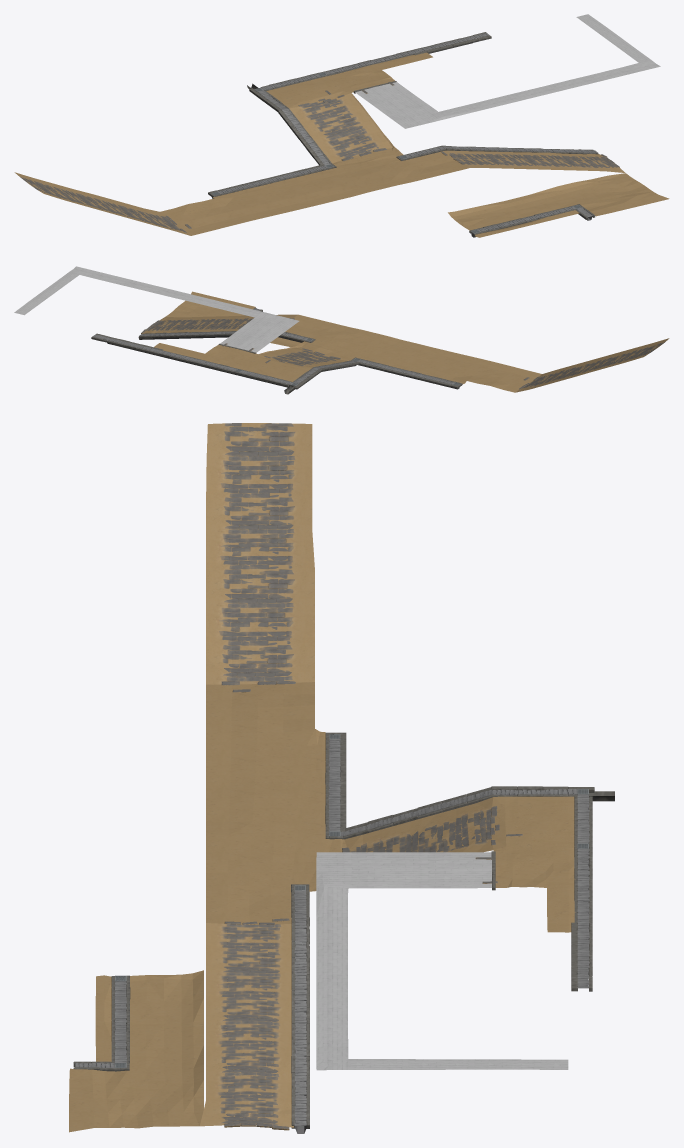
The model's file is konohavill_ground_03.fbx.
3 renders of one model, top to bottom at view 1: azimuth 30°, elevation 25°; view 2: azimuth 150°, elevation 25°; view 3: azimuth 270°, elevation 25°, orthographic. The views are drawn at different scales.
Parts seen in each view (by area): view 1: SM_ENV_KNVLLG_ground_03.mo; view 2: SM_ENV_KNVLLG_ground_03.mo; view 3: SM_ENV_KNVLLG_ground_03.mo.
Boxes of the visible parts, <box> form: SM_ENV_KNVLLG_ground_03.mo: <box>14,14,669,237</box>; SM_ENV_KNVLLG_ground_03.mo: <box>14,266,669,394</box>; SM_ENV_KNVLLG_ground_03.mo: <box>69,423,614,1133</box>.
Bounding box in the file's own units: 11393 × 2069 × 4745.
